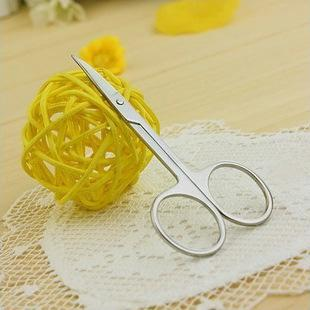scissor: (42, 25, 276, 275)
